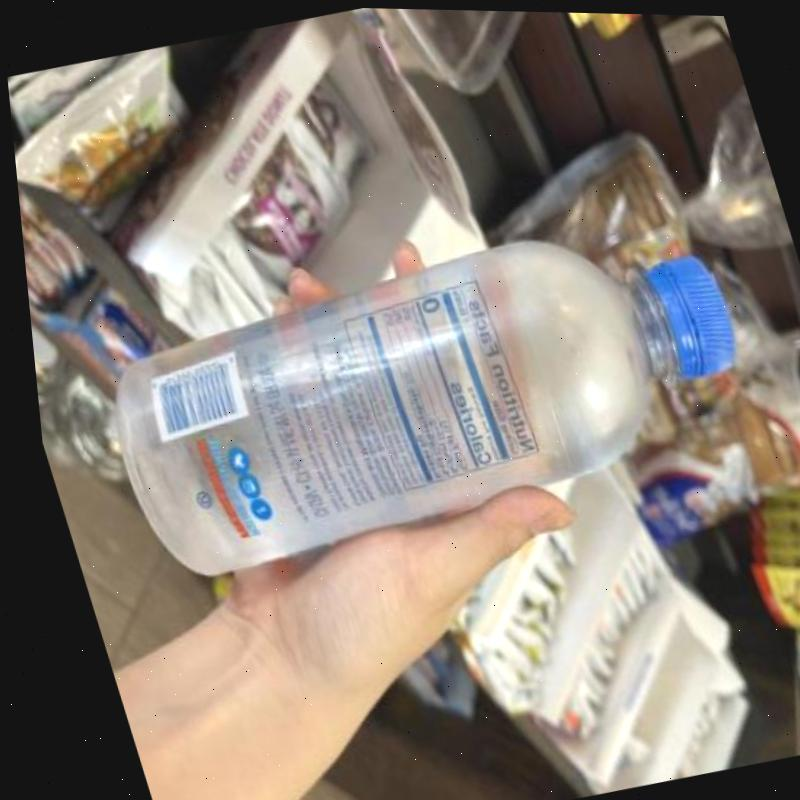botella: (64, 187, 776, 595)
